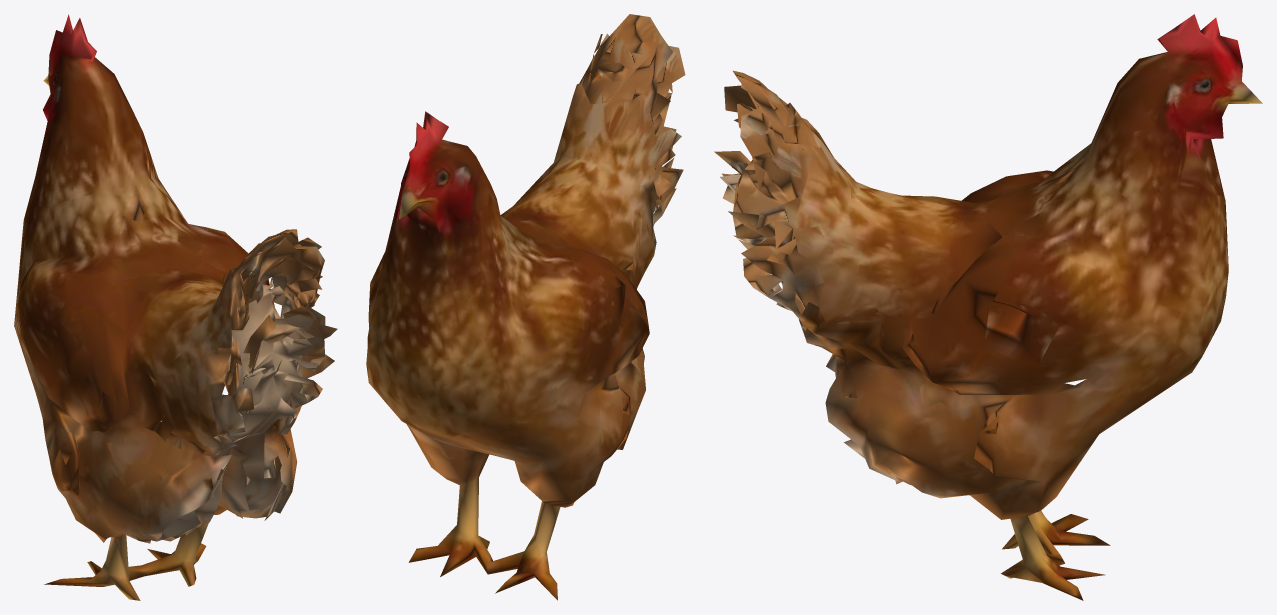
File: muji.glb
The picture shows the model from 3 angles, left to right: view 1: azimuth 30°, elevation 25°; view 2: azimuth 150°, elevation 25°; view 3: azimuth 270°, elevation 25°; orthographic projection. The views are drawn at different scales.
Visible parts, largest first — view 1: tripo_node_01605d7d-7826-48fe-9f56-1d972df4e1c9; view 2: tripo_node_01605d7d-7826-48fe-9f56-1d972df4e1c9; view 3: tripo_node_01605d7d-7826-48fe-9f56-1d972df4e1c9.
Boxes of the visible parts, <box> form: tripo_node_01605d7d-7826-48fe-9f56-1d972df4e1c9: <box>14,14,337,600</box>; tripo_node_01605d7d-7826-48fe-9f56-1d972df4e1c9: <box>366,14,685,600</box>; tripo_node_01605d7d-7826-48fe-9f56-1d972df4e1c9: <box>714,14,1262,600</box>.
Bounding box in the file's own units: 0.4462 × 1 × 0.9005.
1 material, 1 textured.
